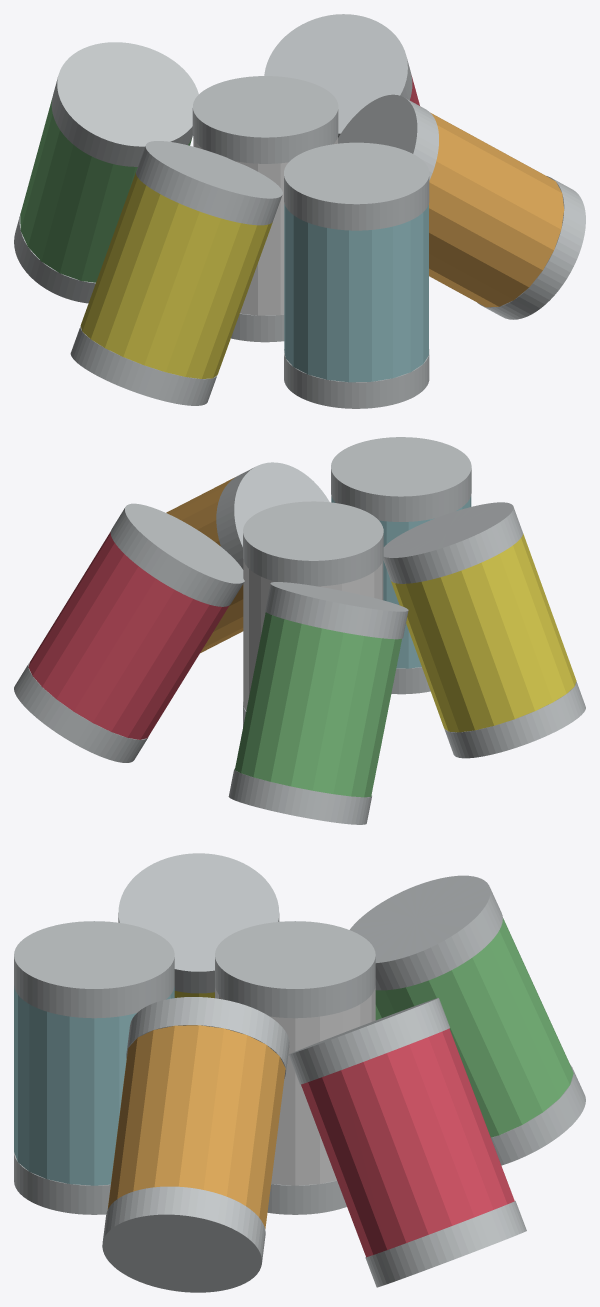
File: tupp.gltf
The picture shows the model from 3 angles, top to bottom: view 1: azimuth 30°, elevation 25°; view 2: azimuth 150°, elevation 25°; view 3: azimuth 270°, elevation 25°; orthographic projection. The views are drawn at different scales.
Parts seen in each view (by area): view 1: Mesh_Mesh_head_geo001_lambert2SG001; view 2: Mesh_Mesh_head_geo001_lambert2SG001; view 3: Mesh_Mesh_head_geo001_lambert2SG001.
Boxes of the visible parts, x1,y1,x2,y2 form: Mesh_Mesh_head_geo001_lambert2SG001: [14, 14, 585, 408]; Mesh_Mesh_head_geo001_lambert2SG001: [14, 437, 585, 824]; Mesh_Mesh_head_geo001_lambert2SG001: [14, 853, 585, 1292].
Size of the model in its own units: 1.31 by 0.6268 by 1.21.
